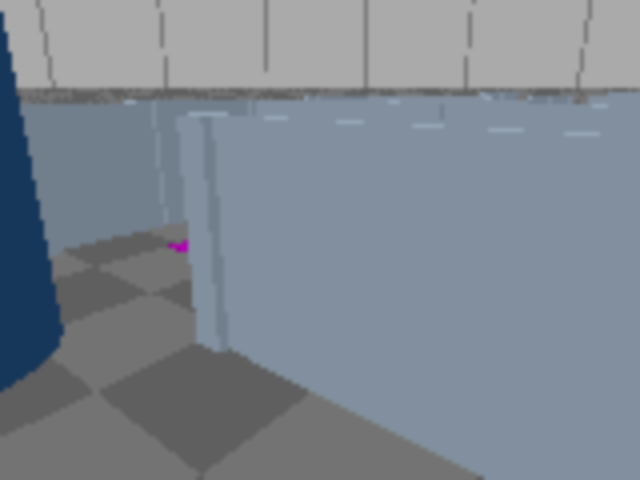person: (0, 0, 53, 423)
